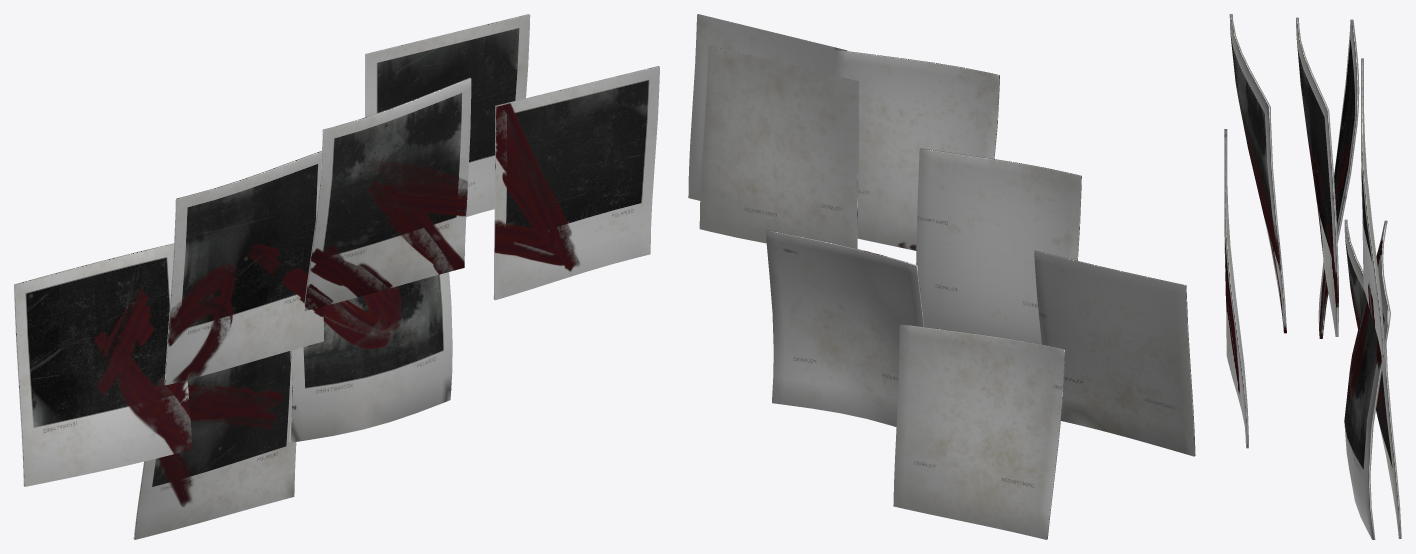
3 views of the same model, side by side, from view 1: azimuth 30°, elevation 25°; view 2: azimuth 150°, elevation 25°; view 3: azimuth 270°, elevation 25° (orthographic). The views are drawn at different scales.
Parts seen in each view (by area): view 1: photo (×7); view 2: photo (×7); view 3: photo (×7).
Part boxes in pixels (box(x1,y1,x2,y2)): photo (×7): box(14, 14, 659, 539); photo (×7): box(688, 14, 1195, 539); photo (×7): box(1224, 14, 1401, 539).
Bounding box in the file's own units: 7.21 × 5.13 × 1.61.
Materials: 1 (1 with a texture image).
